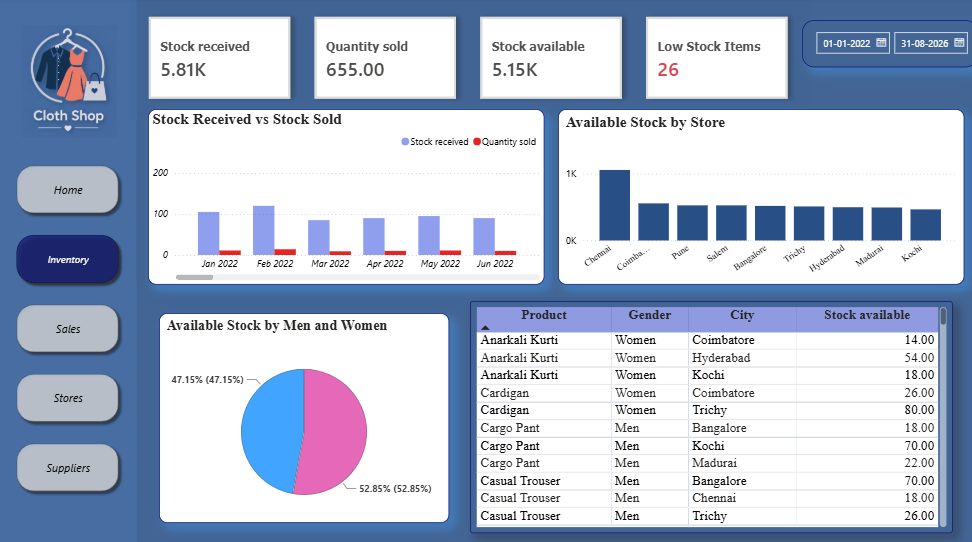

The dashboard page shown, as its layout file describes it:
{"tool":"powerbi","page":{"name":"Inventory","canvas":[1280,720],"ordinal":1},"visuals":[{"type":"shape","box":[0,0,179.4,719.5],"z":0},{"type":"pageNavigator","box":[14,213,148,443],"z":1000},{"type":"cardVisual","fields":{"Data":["INVENTORY_SALES.Stock received","INVENTORY_SALES.Quantity sold","INVENTORY_SALES.Stock available","INVENTORY_SALES.Low Stock Items"]},"box":[168.5,0,891.4,159.8],"z":2000},{"type":"clusteredColumnChart","title":"Stock Received vs Stock Sold","fields":{"Category":["DATES.Month Year"],"Y":["INVENTORY_SALES.Stock received","INVENTORY_SALES.Quantity sold"]},"box":[193.2,146.1,519.1,230.1],"z":3000},{"type":"pieChart","title":"Available Stock by Men and Women","fields":{"Category":["PRODUCTS.GENDER"],"Y":["PRODUCTS.Stock Percentage"]},"box":[208.3,413.2,379.6,275.5],"z":4000},{"type":"columnChart","title":"Available Stock by Store","fields":{"Category":["STORES.CITY"],"Y":["INVENTORY_SALES.Stock available"]},"box":[730.7,146.1,532.5,230.1],"z":5000},{"type":"tableEx","fields":{"Values":["PRODUCTS.PRODUCT_NAME","PRODUCTS.GENDER","STORES.CITY","INVENTORY_SALES.Stock available"]},"box":[614.8,398.1,631.6,304],"z":6000},{"type":"slicer","fields":{"Values":["DATES.Date"]},"box":[1049.8,30.2,230.4,61.9],"z":7000},{"type":"image","box":[10.1,36,158.4,146.9],"z":8000}]}

Visuals, with their boxes in screenshot pixels (x1, y1, x2, y2), scaled from the page's 1280x720 canvas onto the 972x542 screenshot:
shape: left=0, top=0, right=136, bottom=541
pageNavigator: left=11, top=160, right=123, bottom=494
cardVisual - INVENTORY_SALES.Stock received x INVENTORY_SALES.Quantity sold: left=128, top=0, right=805, bottom=120
"Stock Received vs Stock Sold" clusteredColumnChart: left=147, top=110, right=541, bottom=283
"Available Stock by Men and Women" pieChart: left=158, top=311, right=446, bottom=518
"Available Stock by Store" columnChart: left=555, top=110, right=959, bottom=283
tableEx - PRODUCTS.PRODUCT_NAME x PRODUCTS.GENDER: left=467, top=300, right=946, bottom=529
slicer - DATES.Date: left=797, top=23, right=971, bottom=69
image: left=8, top=27, right=128, bottom=138
